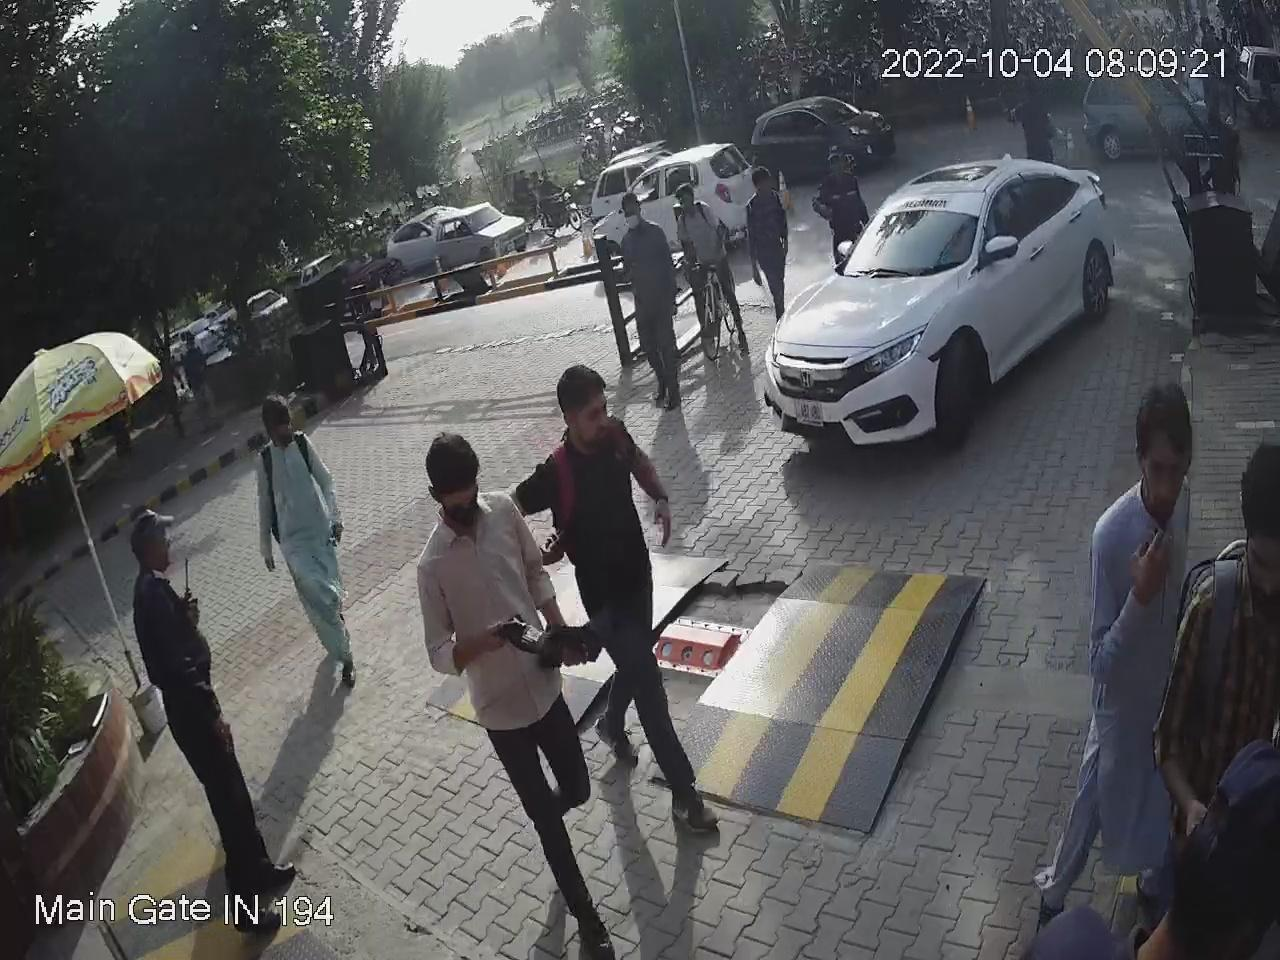windshield: (841, 195, 984, 282)
